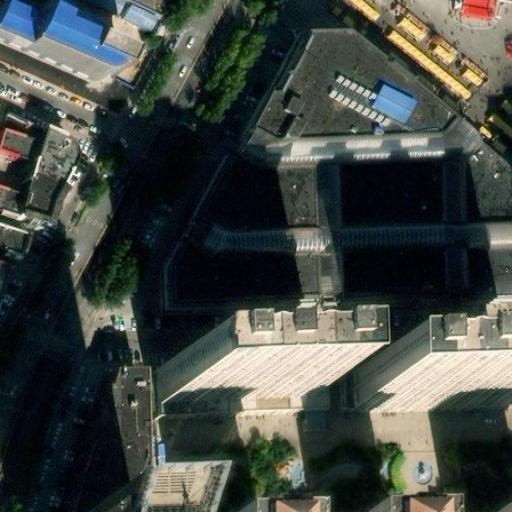building: (199, 152, 512, 343), (152, 362, 319, 412), (72, 389, 139, 512), (338, 365, 500, 414), (31, 21, 135, 93), (151, 363, 304, 404), (345, 378, 501, 414), (11, 141, 63, 232), (323, 111, 402, 163), (0, 228, 19, 254)
